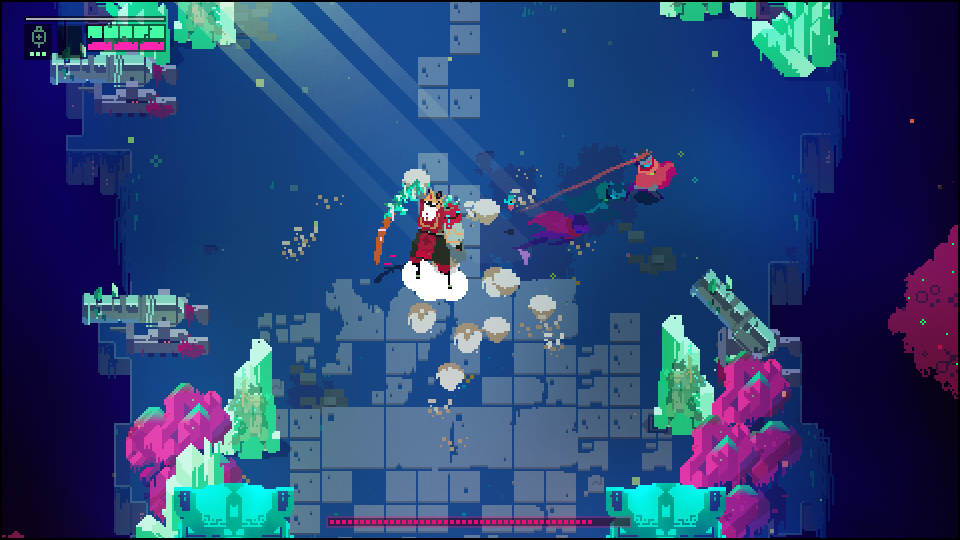hanged_man: (369, 182, 467, 299)
player: (621, 145, 678, 205)
